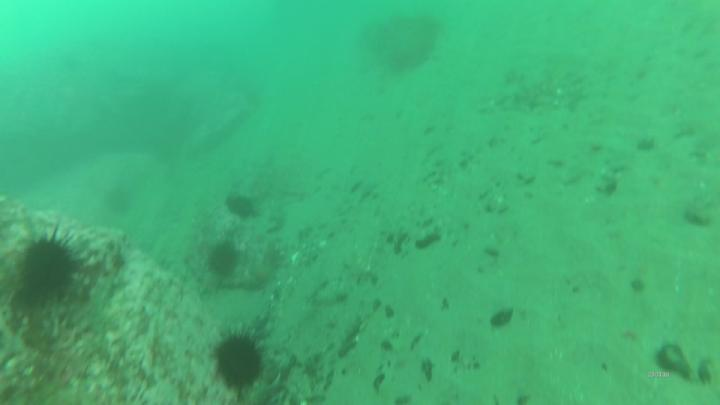echinus: (23, 241, 76, 302), (216, 336, 262, 387), (206, 245, 240, 278), (225, 195, 258, 223), (247, 265, 274, 287)
